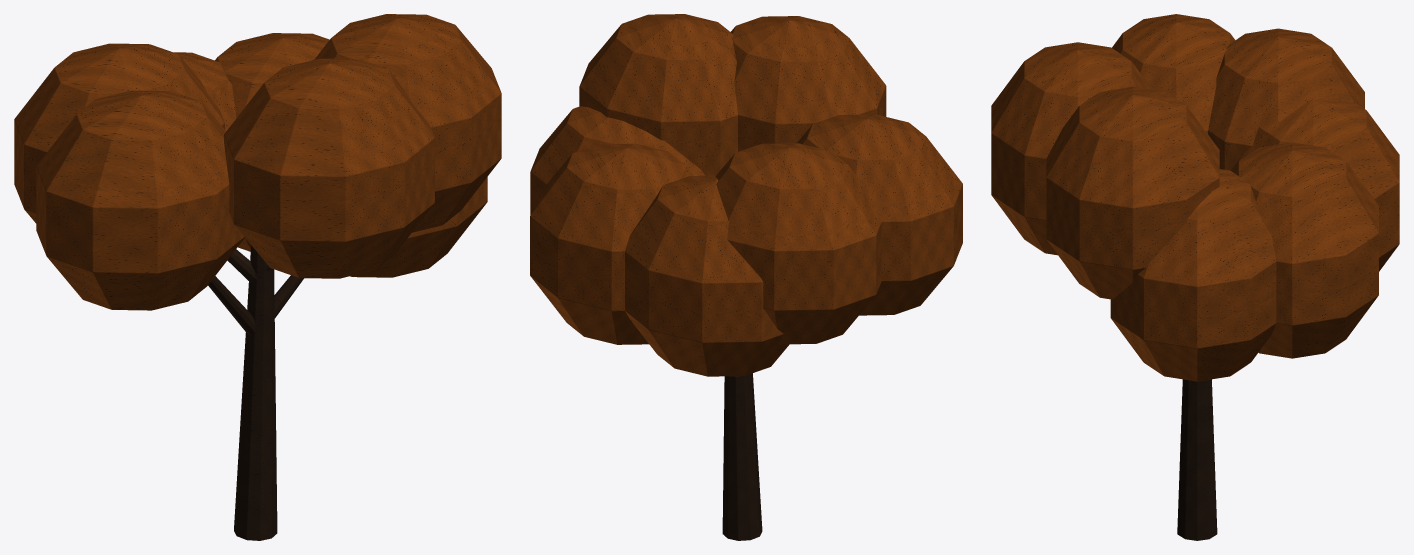
File: PROP-D93C2EC22851_lod1.glb
The picture shows the model from 3 angles, left to right: view 1: azimuth 30°, elevation 25°; view 2: azimuth 150°, elevation 25°; view 3: azimuth 270°, elevation 25°; orthographic projection. The views are drawn at different scales.
Parts seen in each view (by area): view 1: leaf_crown.085, trunk.077, branch.049; view 2: leaf_crown.085, trunk.077; view 3: leaf_crown.085, trunk.077.
Part boxes in pixels (<box>): leaf_crown.085: <box>14,14,501,310</box>; trunk.077: <box>234,245,277,540</box>; branch.049: <box>208,249,303,335</box>; leaf_crown.085: <box>530,14,962,376</box>; trunk.077: <box>722,373,762,540</box>; leaf_crown.085: <box>991,14,1399,381</box>; trunk.077: <box>1177,379,1217,540</box>.
Size of the model in its own units: 5.57 by 6.17 by 4.69.
Materials: 2 (2 with a texture image).
